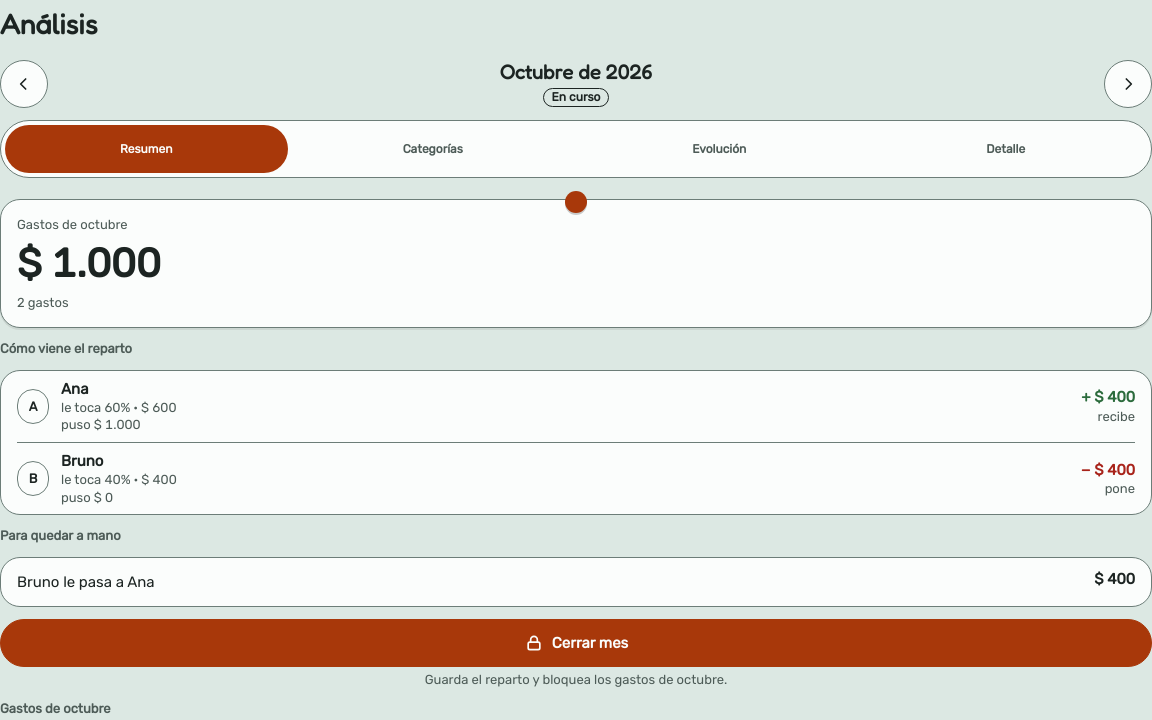
Test case: otro error al cerrar queda en la hoja
The width and height of the screenshot is (1152, 720).
Expected: the tab "Resumen" is shown, [5,125,288,173]
Click the button "Cerrar mes" at (576, 643), box [0,619,1151,667]
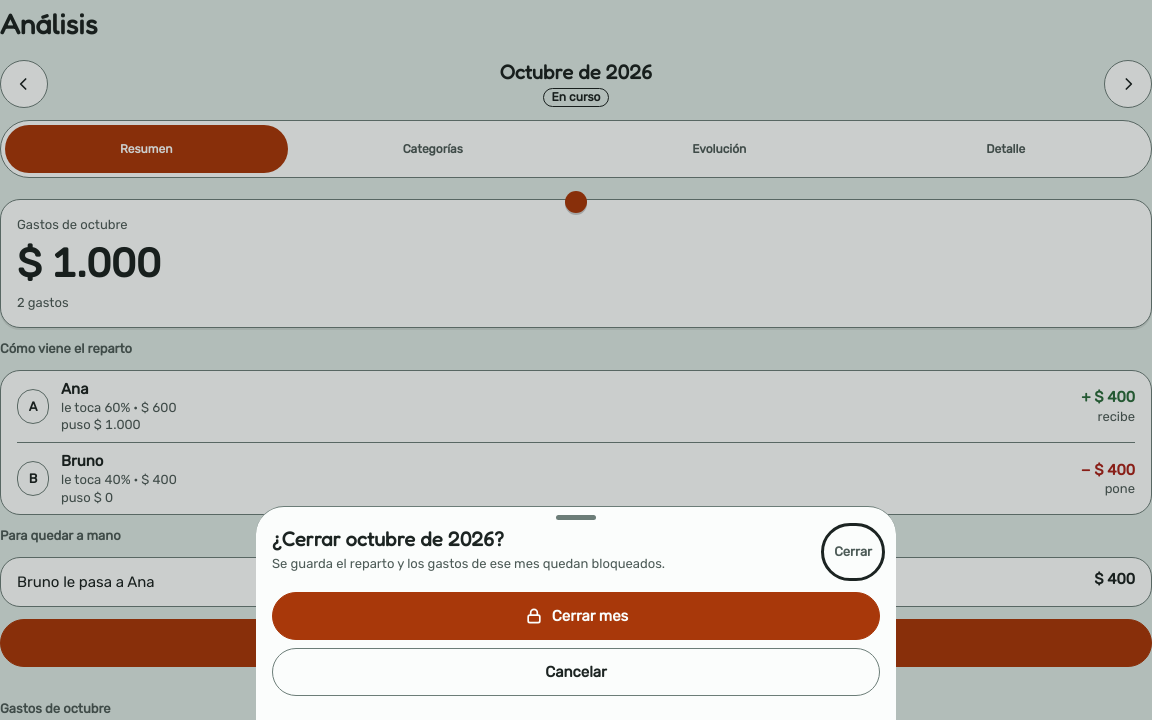
Click the button "Cerrar mes" at (576, 616), box [272,592,880,640]
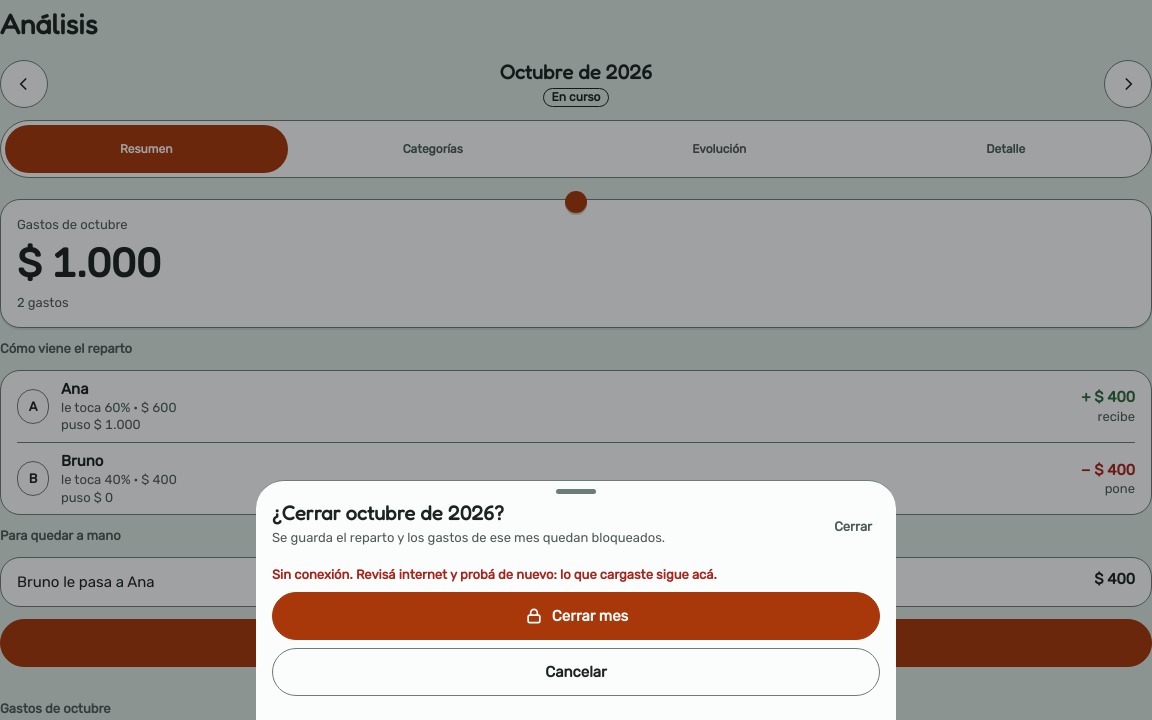
Now the text "Sin conexión. Revisá internet y probá de nuevo: lo que cargaste sigue acá." is shown, box [272,568,717,582]
